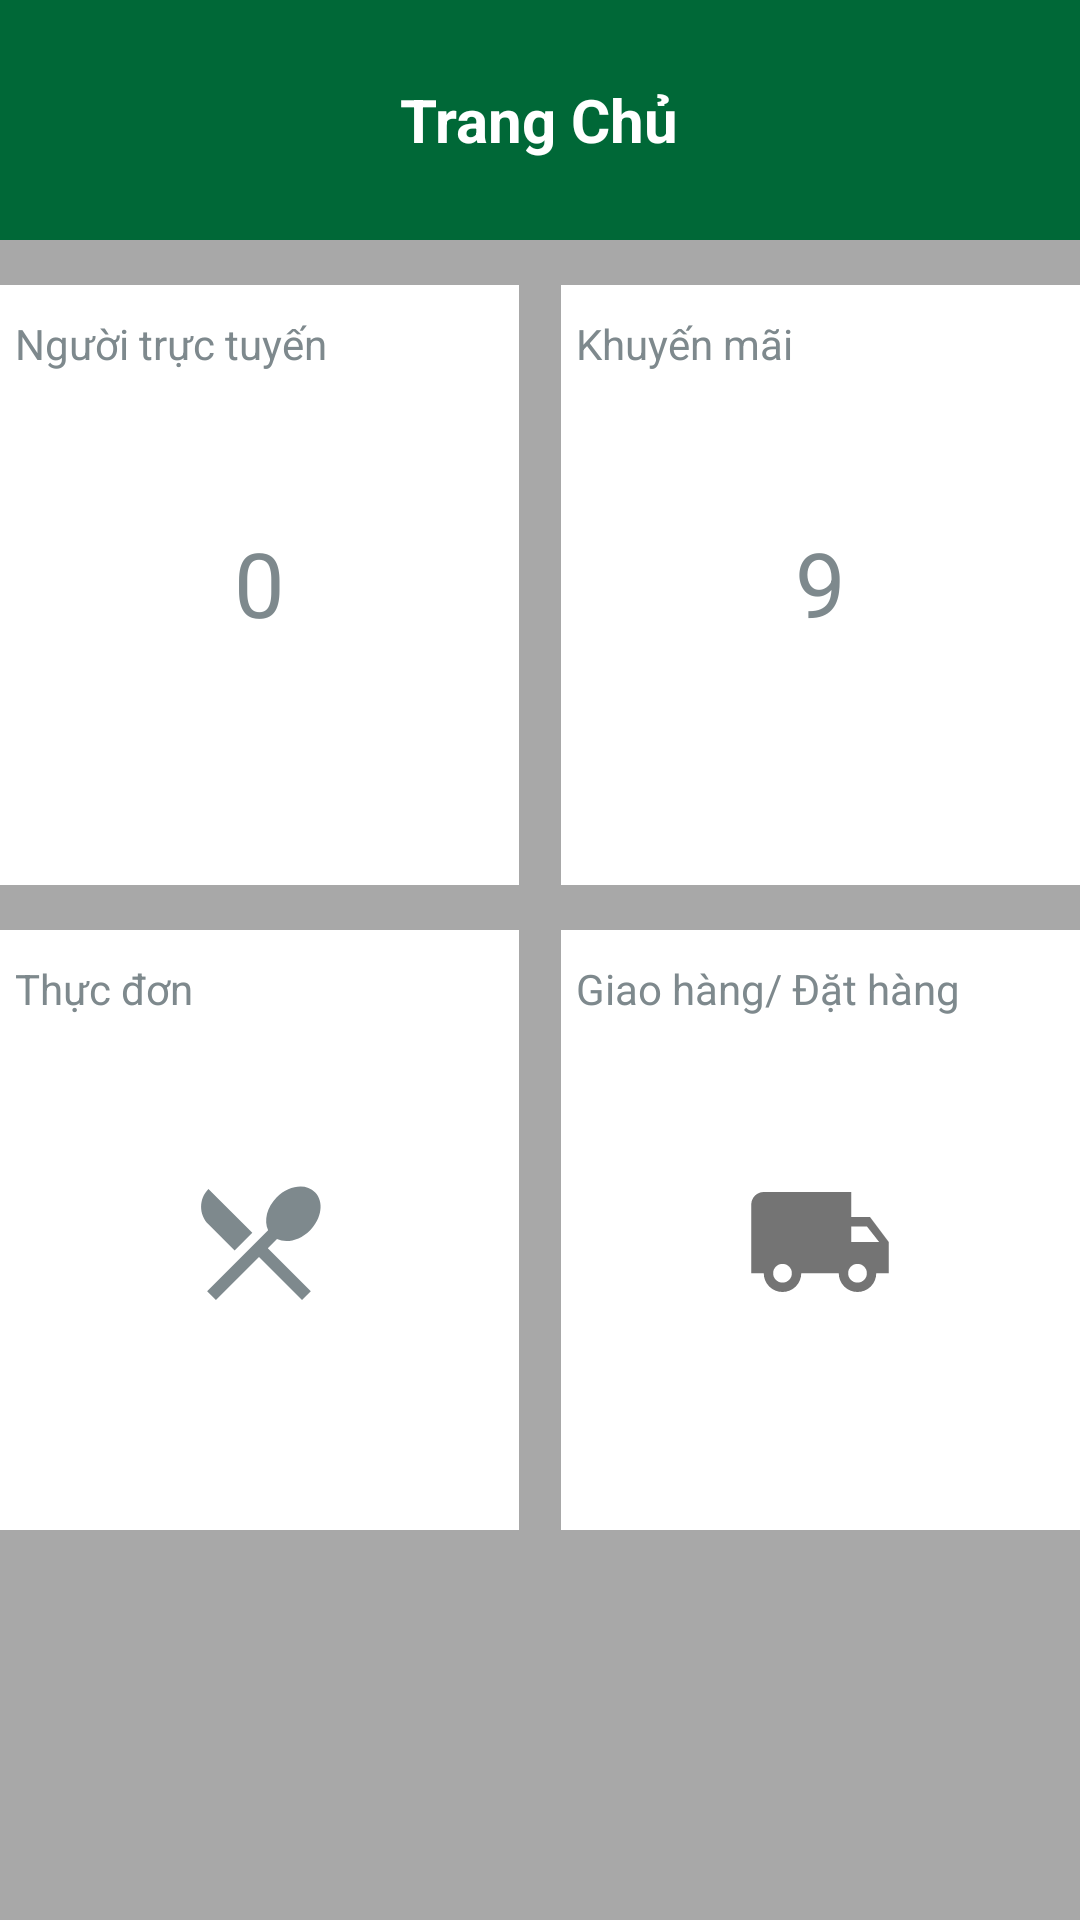

Icon click points for this 1080px×1920px phone screenshot, format (x,y):
restaurant menu: (261,1243)
